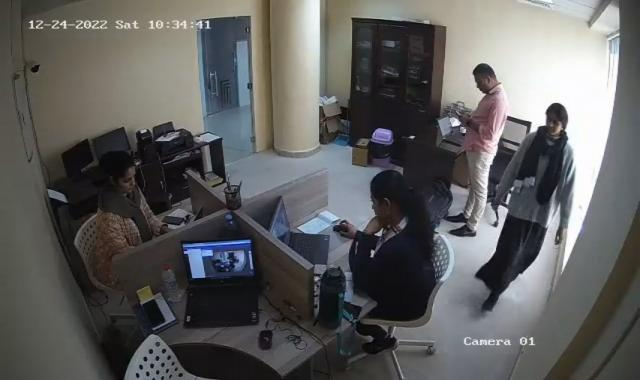no_hairnet: (371, 168, 417, 223), (102, 151, 136, 194), (544, 104, 568, 139), (471, 63, 498, 93)
